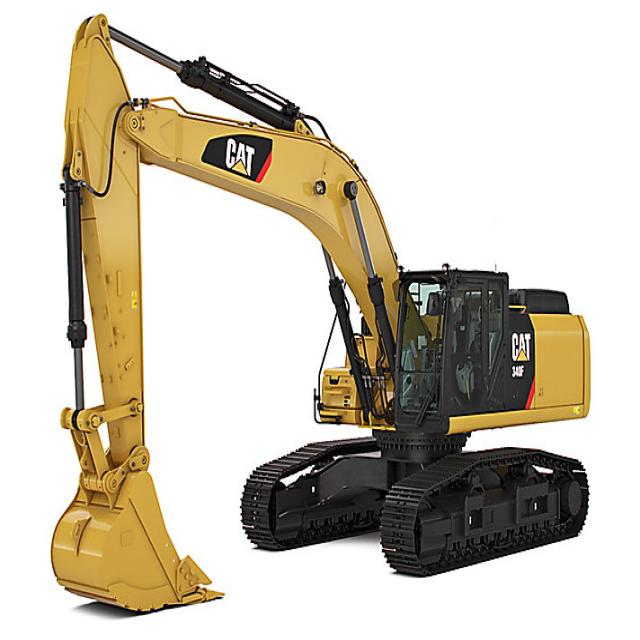excavator: (45, 16, 599, 623)
